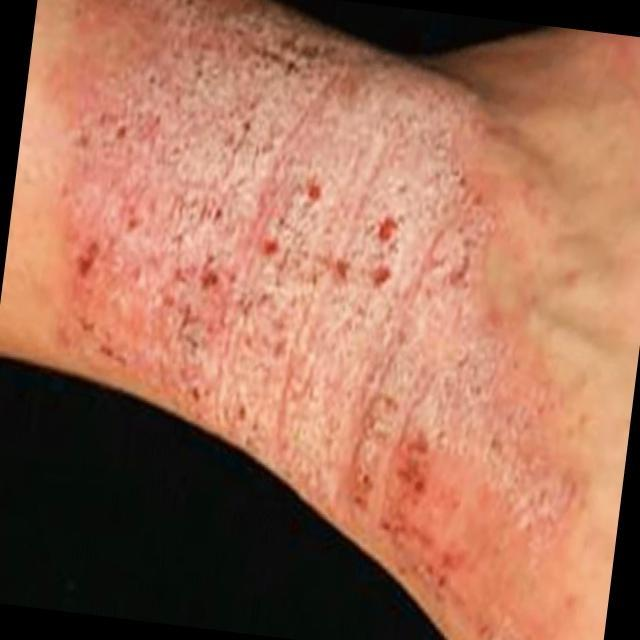Eczema: (62, 0, 548, 546)
